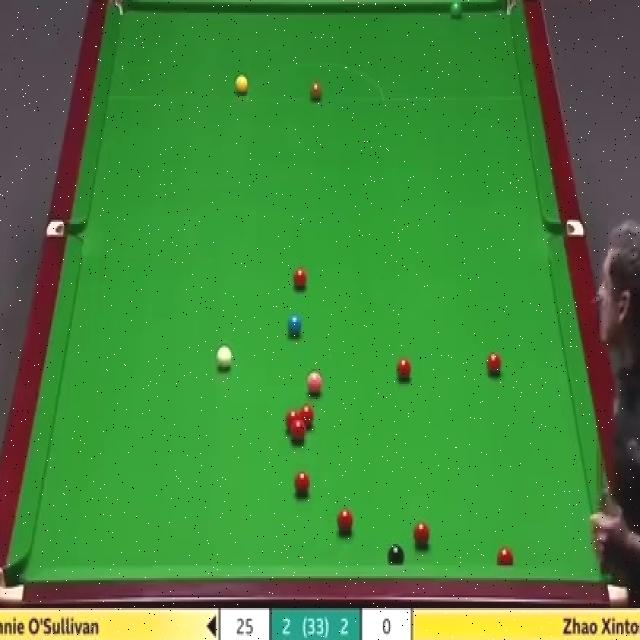black-ball: (388, 543, 405, 566)
blue-ball: (286, 314, 304, 336)
brown-ball: (310, 78, 322, 100)
green-ball: (449, 0, 463, 17)
pink-ball: (305, 373, 325, 396)
red-ball: (294, 466, 312, 496), (337, 506, 355, 536), (413, 522, 431, 551), (395, 354, 413, 383), (285, 409, 300, 436), (486, 352, 501, 378), (300, 405, 314, 430), (496, 546, 514, 565), (291, 423, 307, 444), (294, 267, 308, 289)
white-ball: (217, 344, 232, 372)
yellow-ball: (235, 77, 248, 95)
